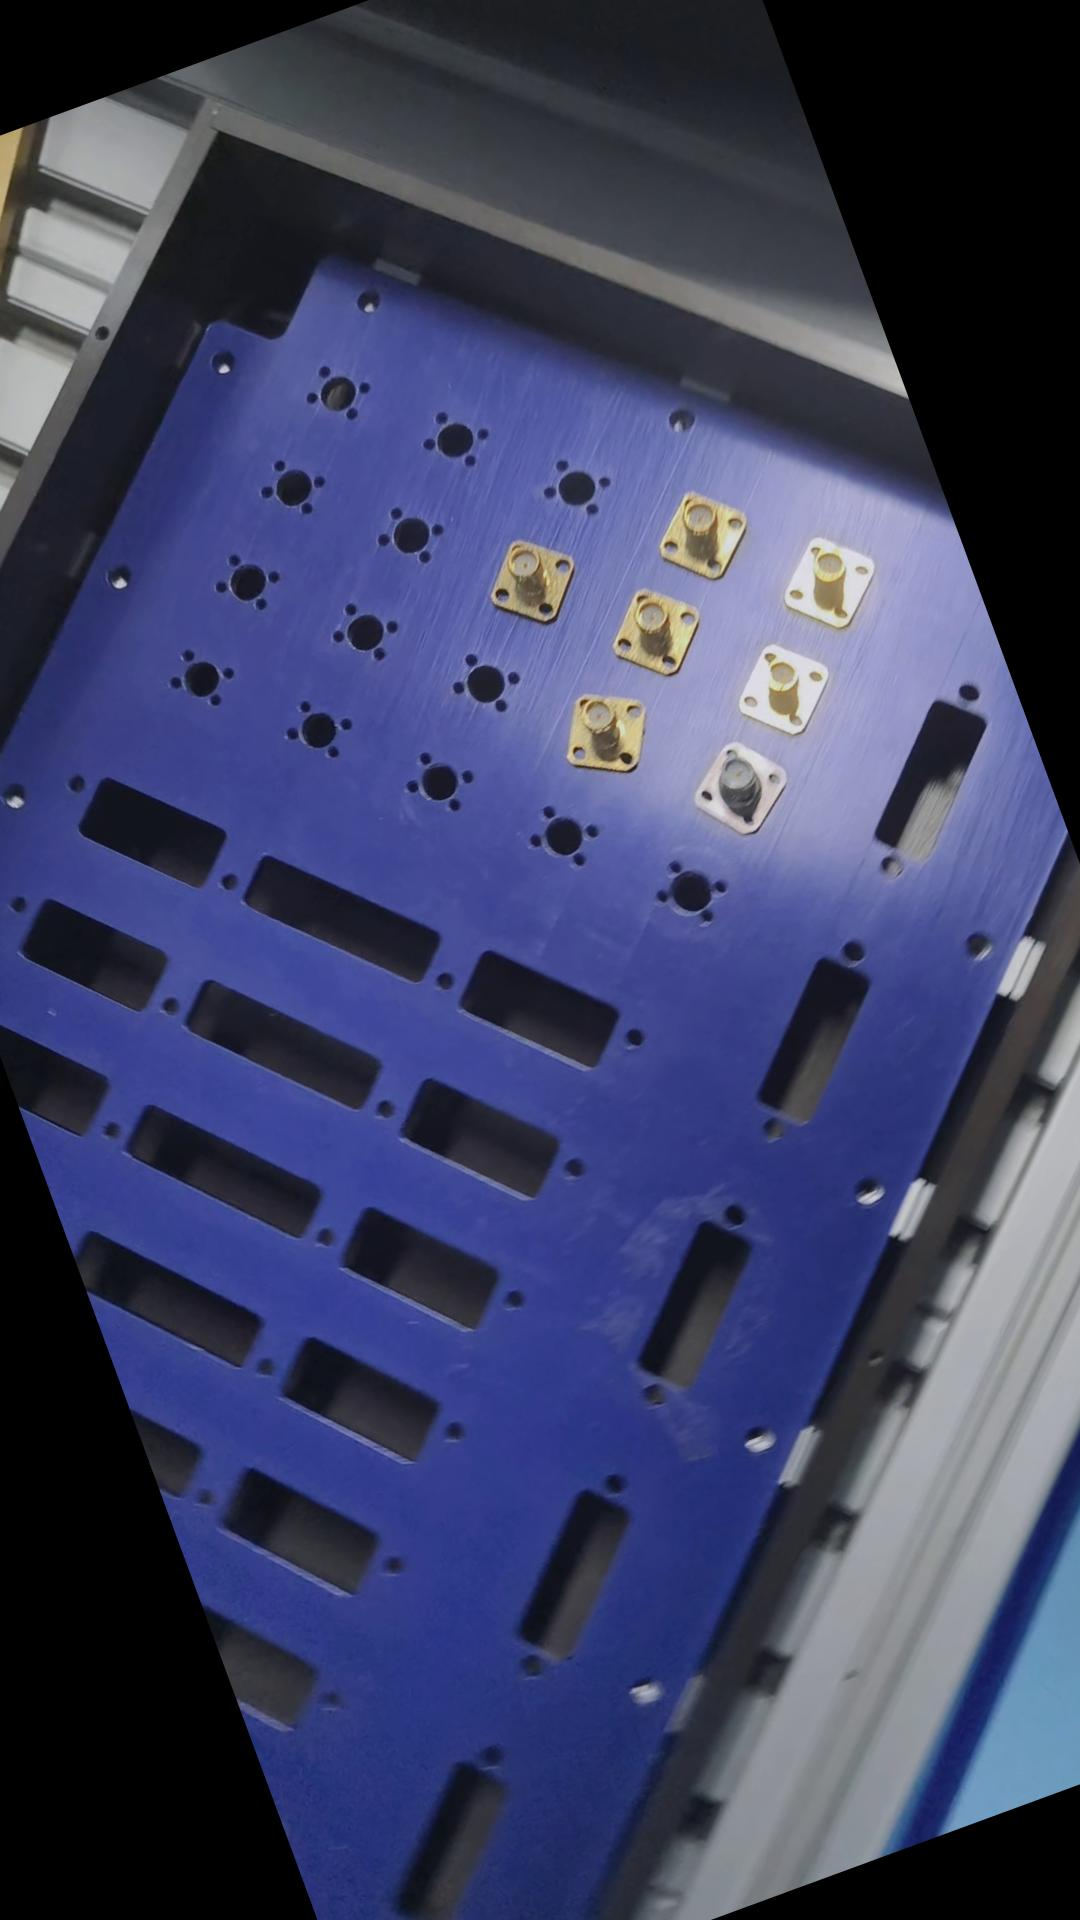SMA: (764, 520, 891, 644), (675, 723, 796, 843), (591, 572, 709, 694), (717, 630, 840, 746), (644, 476, 761, 593), (545, 675, 659, 789), (472, 524, 587, 634)
